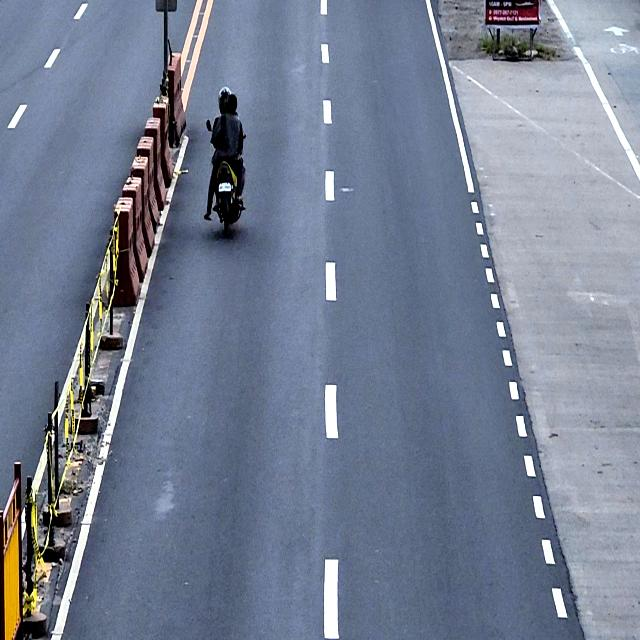License-Plate: (218, 182, 232, 193)
Motorcycle: (205, 118, 246, 236)
